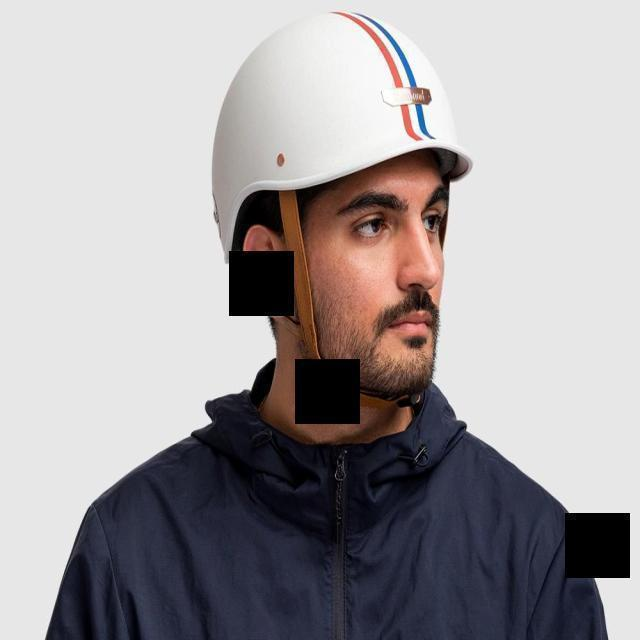helmet: (216, 14, 474, 408)
